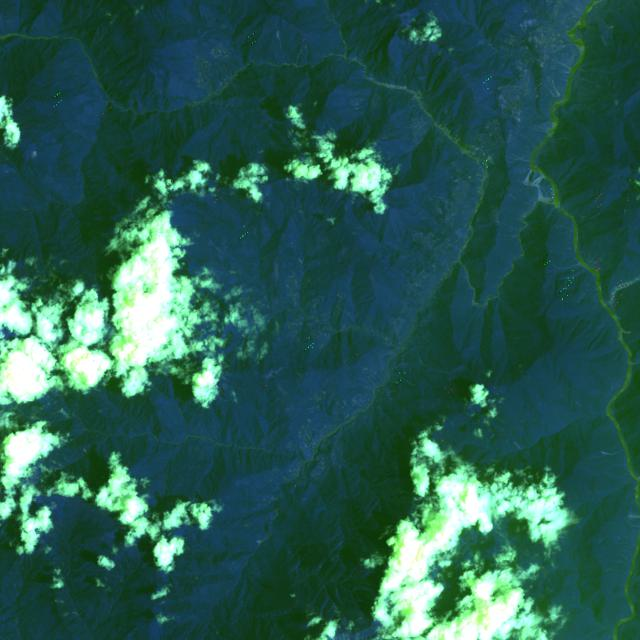landslides: (579, 62, 628, 73), (591, 6, 613, 30), (560, 269, 587, 282), (579, 77, 600, 90), (551, 57, 571, 70), (414, 350, 428, 368), (552, 78, 562, 99), (525, 133, 537, 150), (276, 30, 284, 55), (345, 328, 350, 367), (523, 169, 534, 186), (555, 262, 581, 269), (600, 448, 625, 455), (538, 196, 555, 206), (513, 153, 530, 163), (101, 373, 116, 384), (431, 518, 442, 533), (532, 174, 545, 186), (539, 124, 552, 136), (74, 347, 88, 358), (502, 223, 519, 232), (546, 207, 556, 222), (544, 84, 554, 98), (625, 519, 640, 528), (553, 67, 570, 73), (557, 226, 574, 232)
